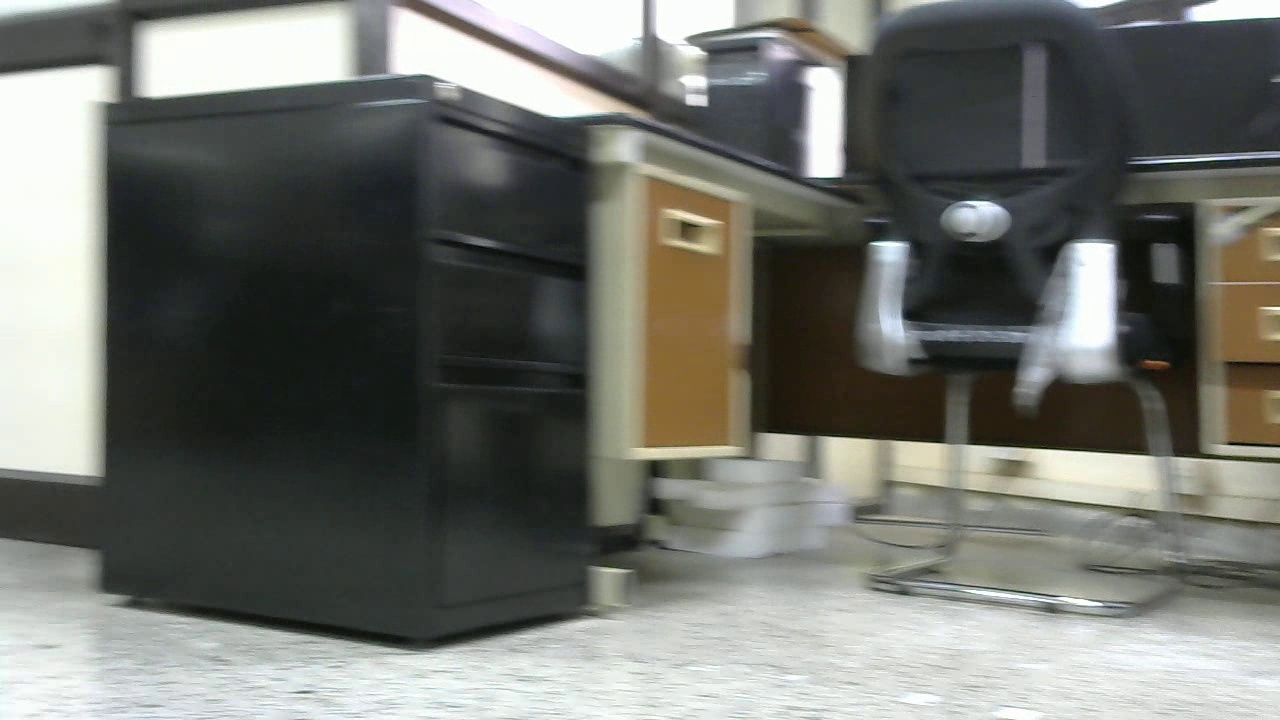chair: (847, 1, 1190, 617)
